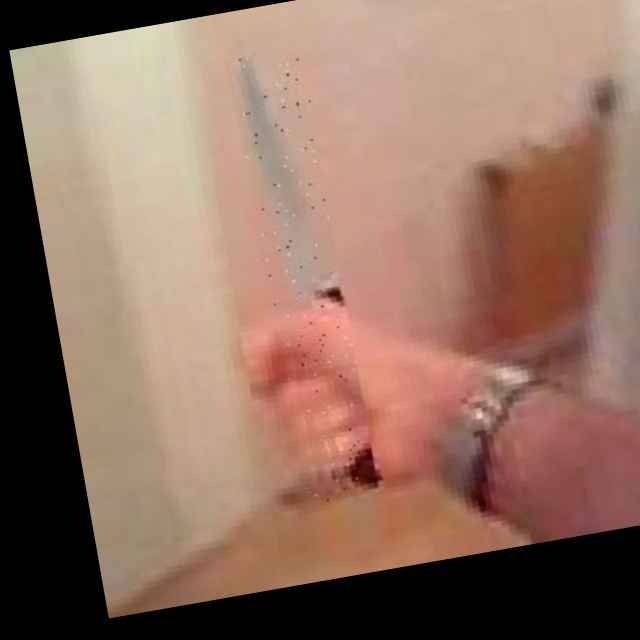Sharp-Object: (230, 47, 379, 505)
